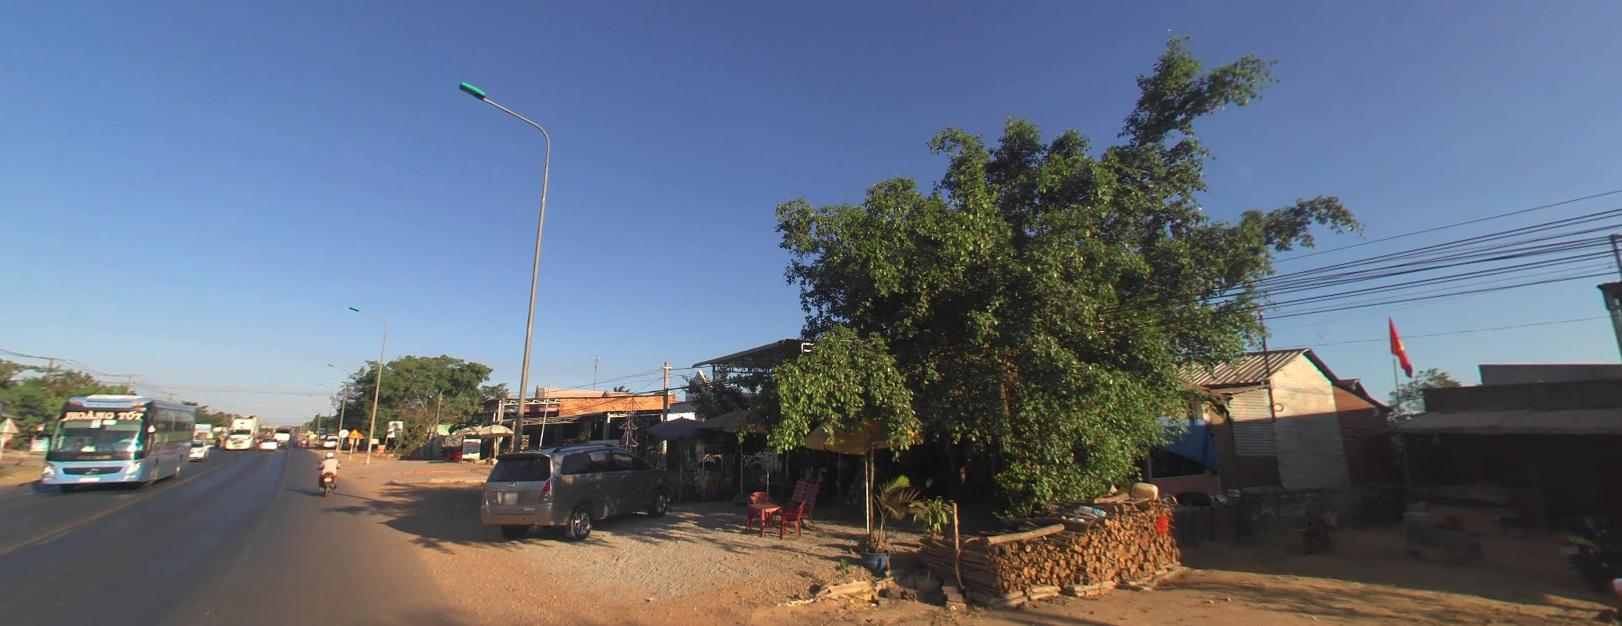Nguy hiem: (347, 426, 359, 437)
